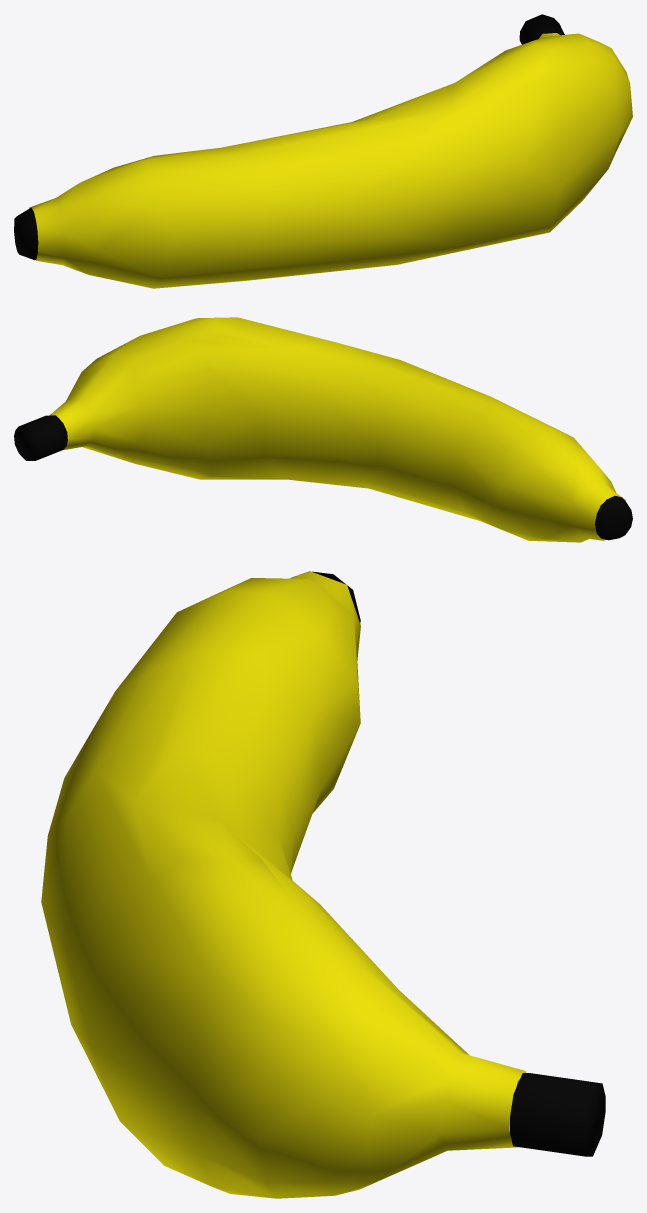
The model's file is Banana.fbx.
The picture shows the model from 3 angles, top to bottom: view 1: azimuth 30°, elevation 25°; view 2: azimuth 150°, elevation 25°; view 3: azimuth 270°, elevation 25°; orthographic projection. The views are drawn at different scales.
Visible parts, largest first — view 1: Banana, Banana Edges; view 2: Banana, Banana Edges; view 3: Banana, Banana Edges.
Part boxes in pixels (x1,y1,x2,y2): Banana: (29, 33, 632, 288); Banana Edges: (14, 14, 564, 260); Banana: (49, 317, 625, 542); Banana Edges: (14, 415, 632, 540); Banana: (41, 571, 526, 1198); Banana Edges: (292, 571, 605, 1156).
Bounding box in the file's own units: 266 × 72.47 × 119.
